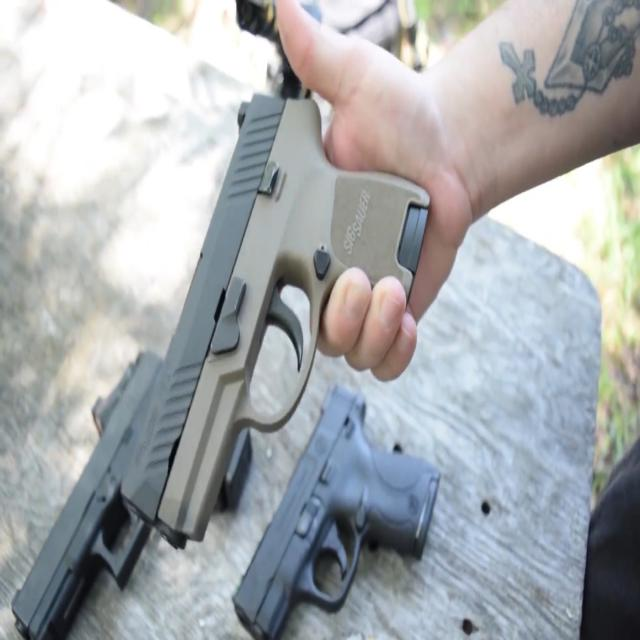handgun: (98, 74, 432, 484), (11, 343, 256, 637), (222, 415, 468, 624)
